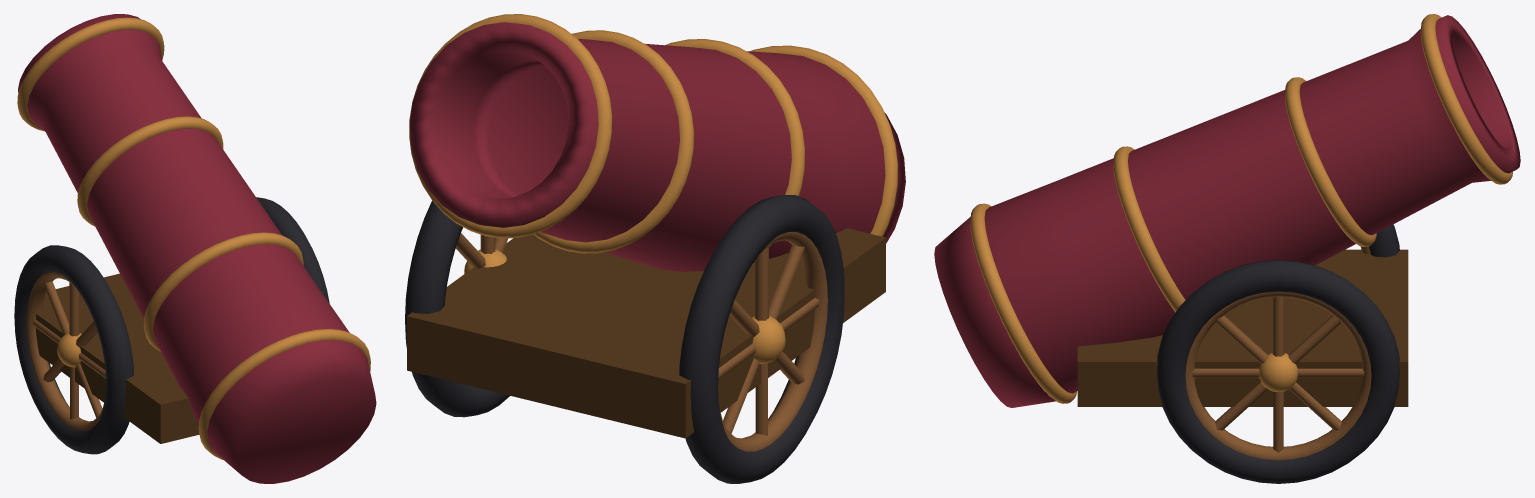
File: mia-cannon.glb
The picture shows the model from 3 angles, left to right: view 1: azimuth 30°, elevation 25°; view 2: azimuth 150°, elevation 25°; view 3: azimuth 270°, elevation 25°; orthographic projection. The views are drawn at different scales.
Parts seen in each view (by area): view 1: Body_velvet, Body_iron, Body_brass, Body_wood, Body_oak; view 2: Body_velvet, Body_wood, Body_iron, Body_brass, Body_oak; view 3: Body_velvet, Body_wood, Body_iron, Body_brass, Body_oak.
Boxes of the visible parts, bbox=[...] form: Body_velvet: bbox=[18, 14, 376, 483]; Body_iron: bbox=[14, 197, 329, 454]; Body_brass: bbox=[17, 17, 370, 459]; Body_wood: bbox=[36, 273, 199, 443]; Body_oak: bbox=[26, 272, 105, 430]; Body_velvet: bbox=[409, 22, 905, 271]; Body_wood: bbox=[407, 228, 885, 438]; Body_iron: bbox=[405, 195, 844, 483]; Body_brass: bbox=[409, 14, 898, 363]; Body_oak: bbox=[455, 232, 827, 451]; Body_velvet: bbox=[934, 15, 1520, 407]; Body_wood: bbox=[1077, 249, 1408, 406]; Body_iron: bbox=[1157, 224, 1399, 483]; Body_brass: bbox=[970, 14, 1512, 403]; Body_oak: bbox=[1185, 246, 1371, 460].
Size of the model in its own units: 1.15 by 1.71 by 2.25.
